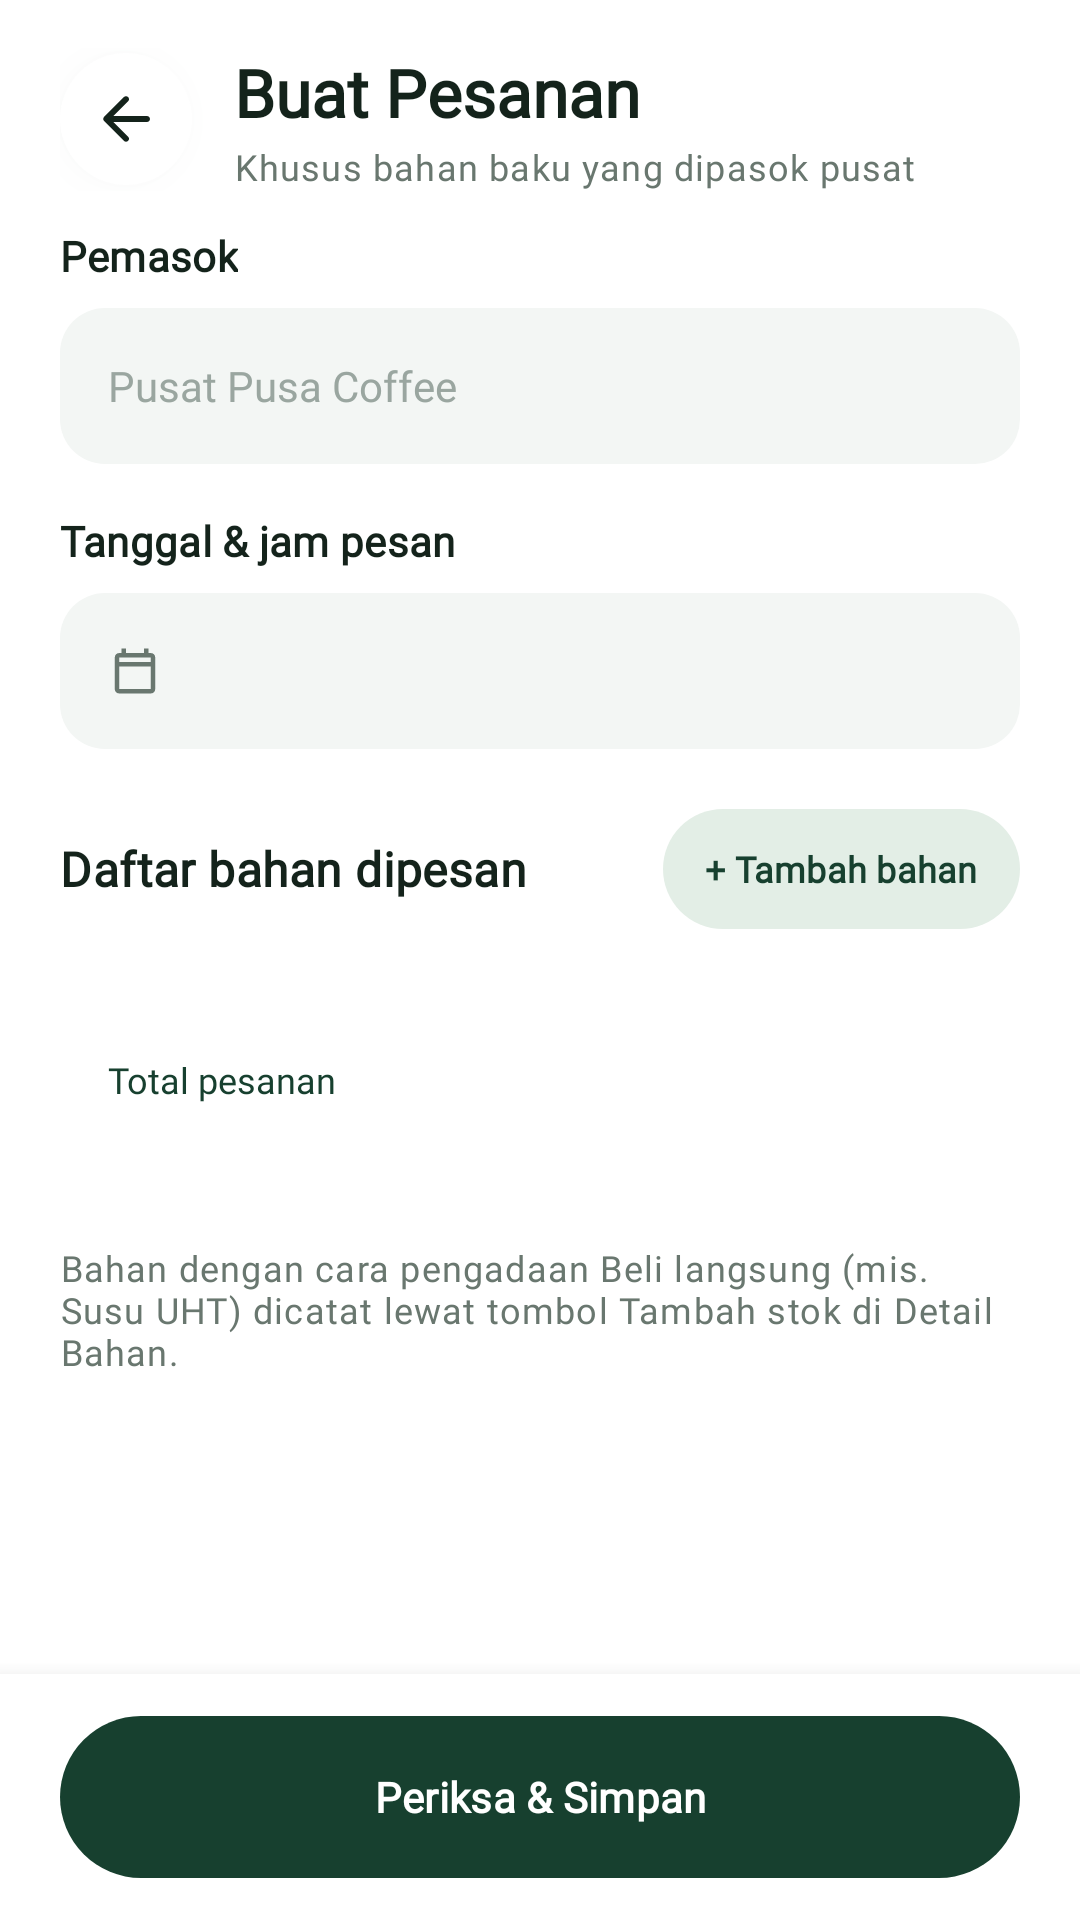

Named icons in this screenshot (1080px×1920px) and their centers, (x=x, y=y):
calendar: (x=135, y=671)
